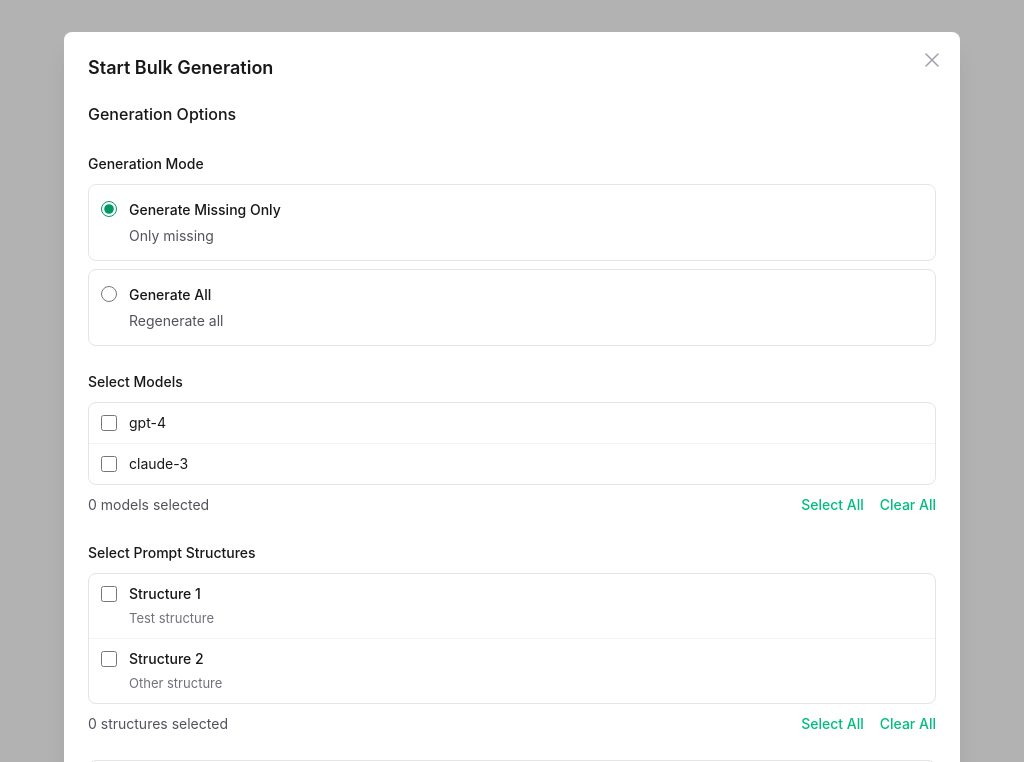
Test case: GenerationControlModal branch coverage › shows error when structures available but none selected
The image size is (1024, 762).
# Select a model
Step 1. Click the checkbox labelled "gpt-4" → (109, 423), box [101,415,117,431]
(page scrolled)
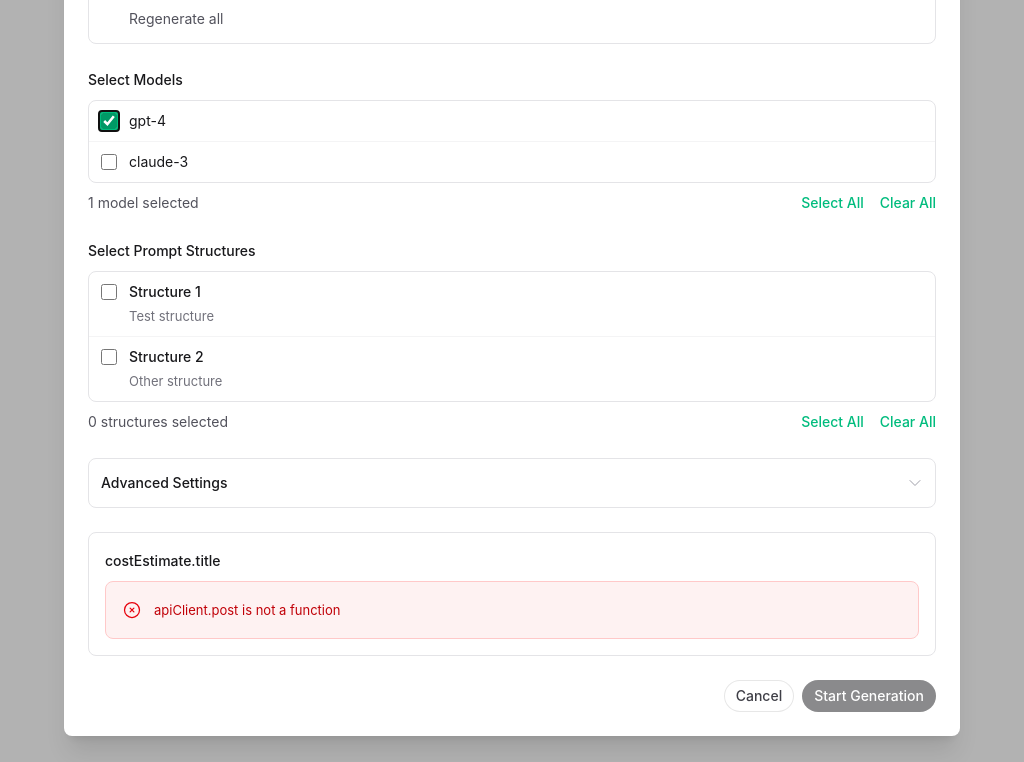
Expected: the button "Start Generation" is disabled, [802,680,936,712]
